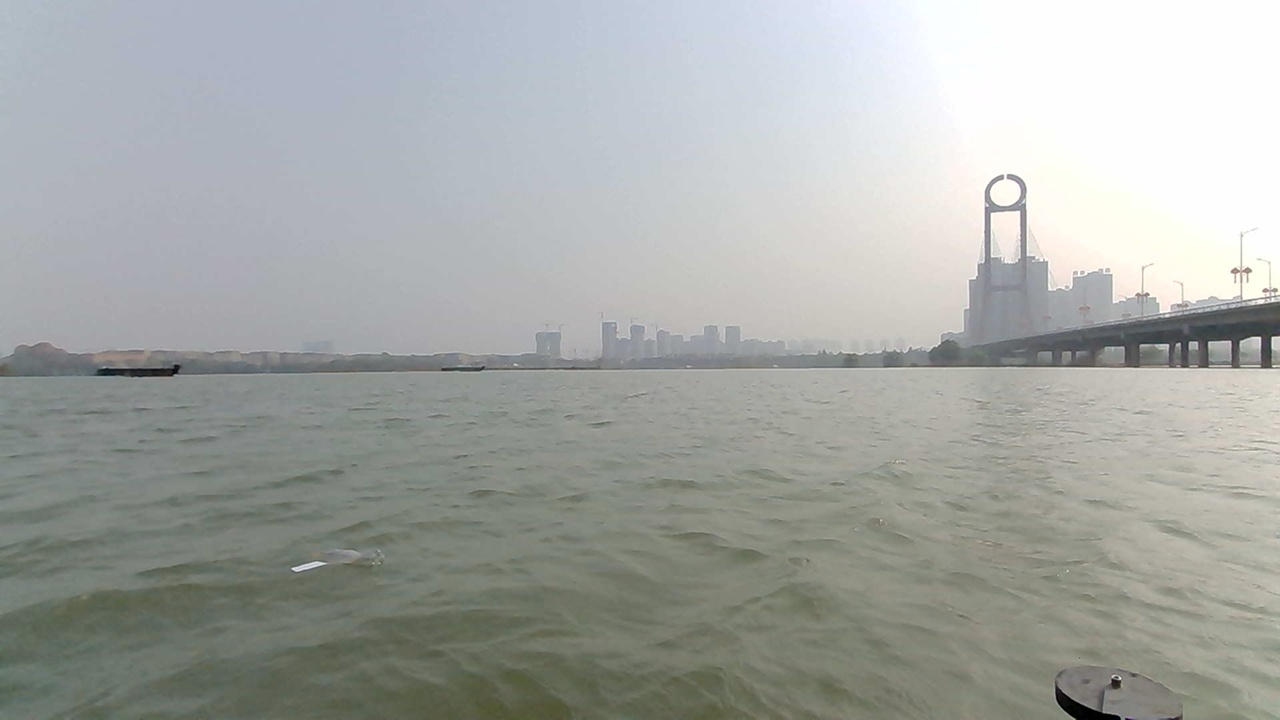bottle: (223, 527, 418, 605)
